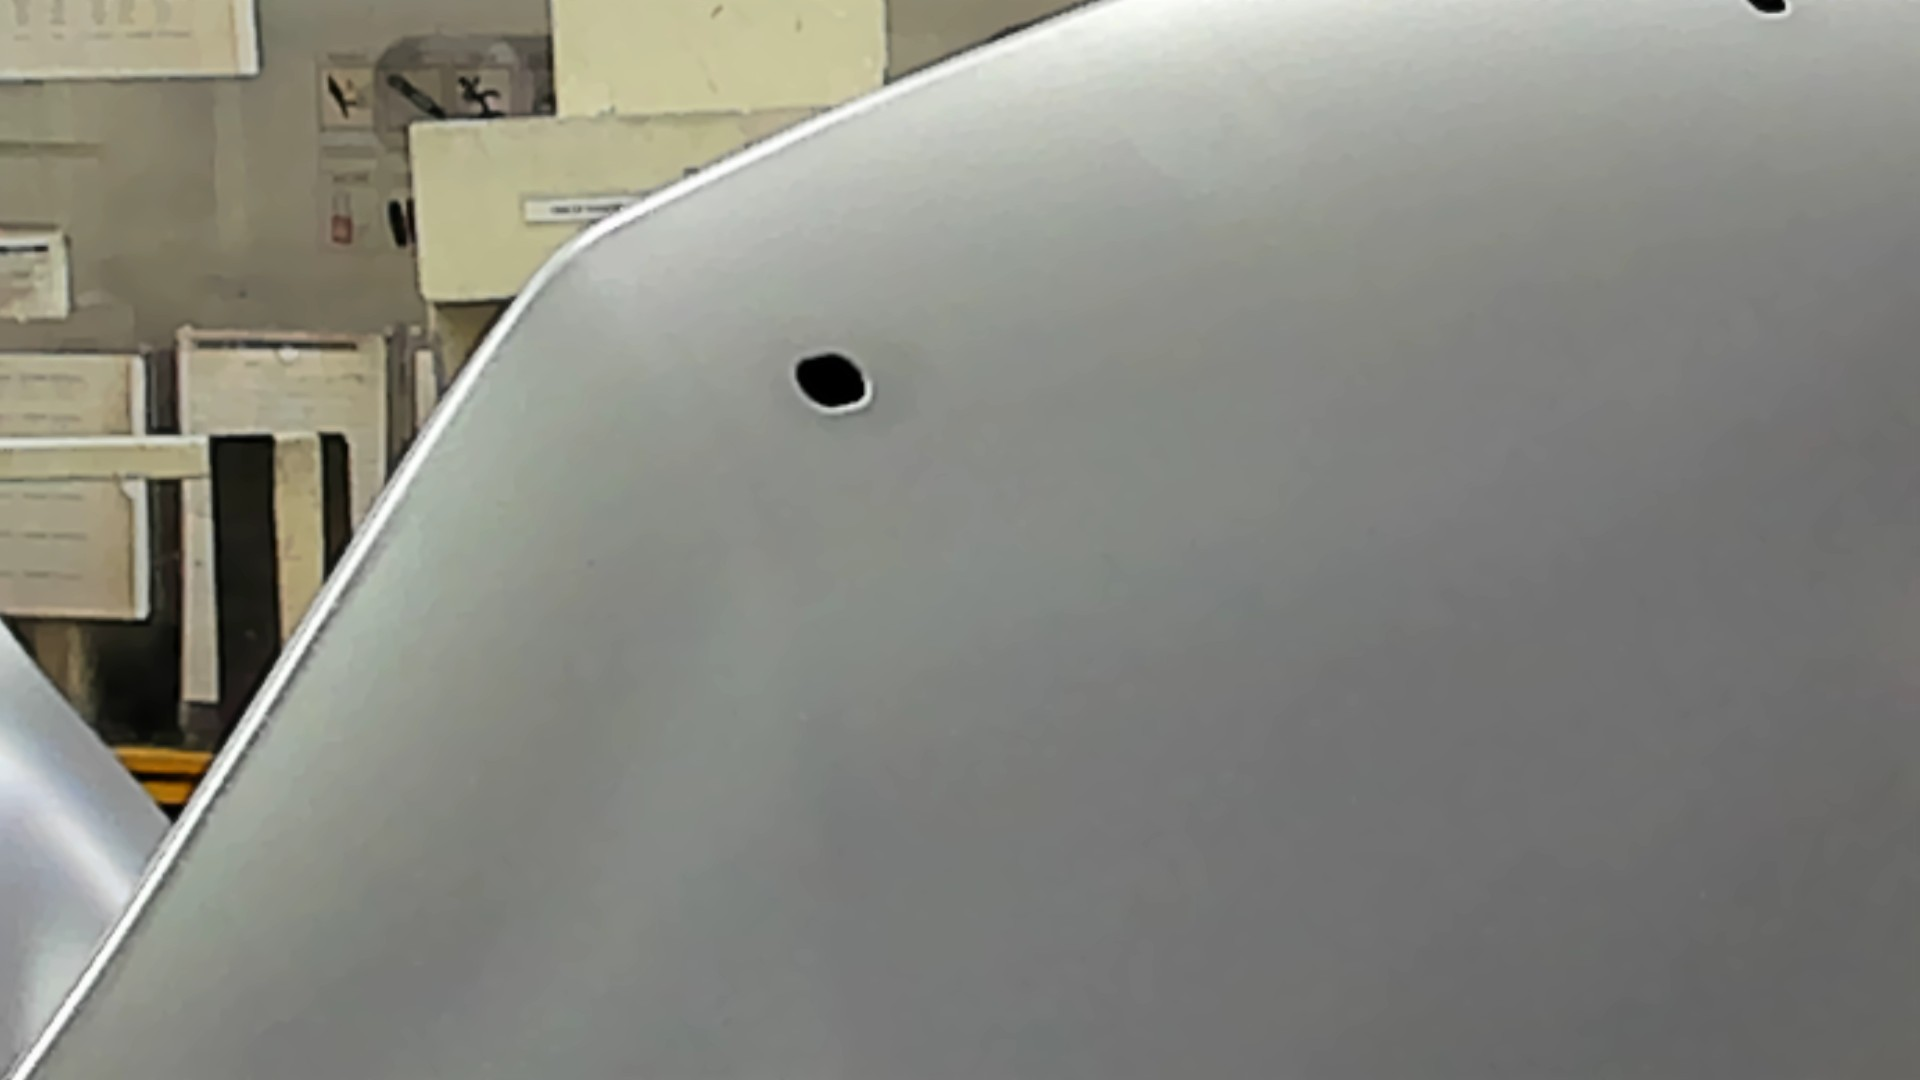amorfo: (785, 345, 880, 418), (1742, 1, 1797, 22)
